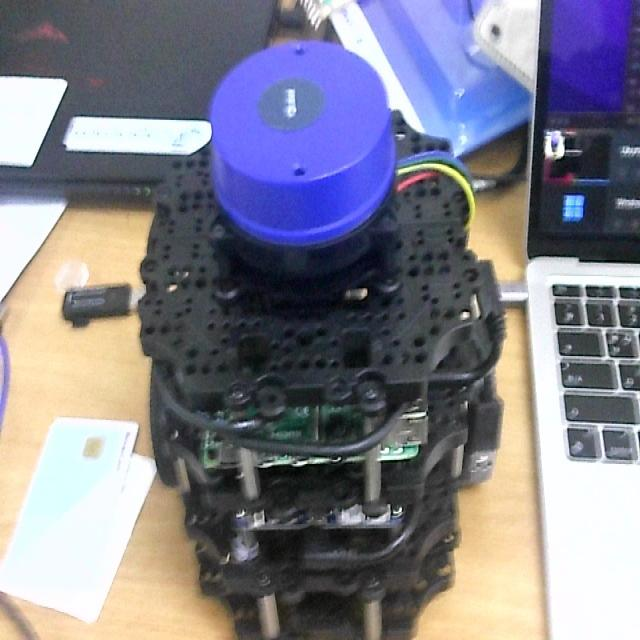turtle: (136, 40, 507, 640)
